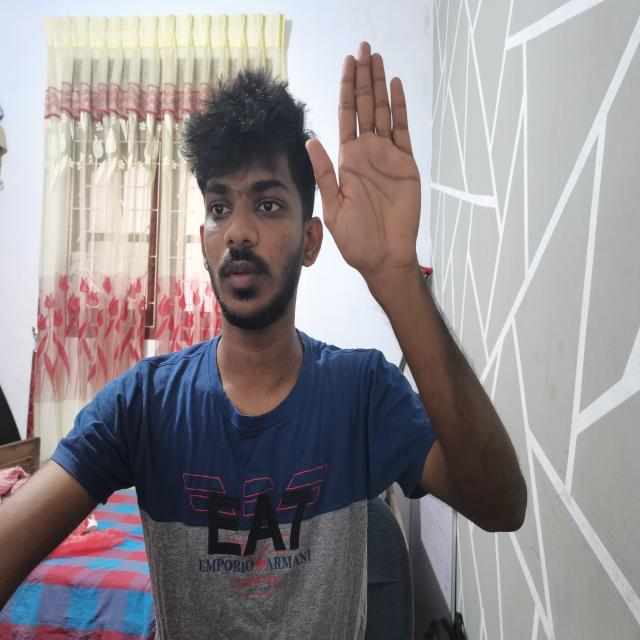Hello: (305, 37, 437, 277)
